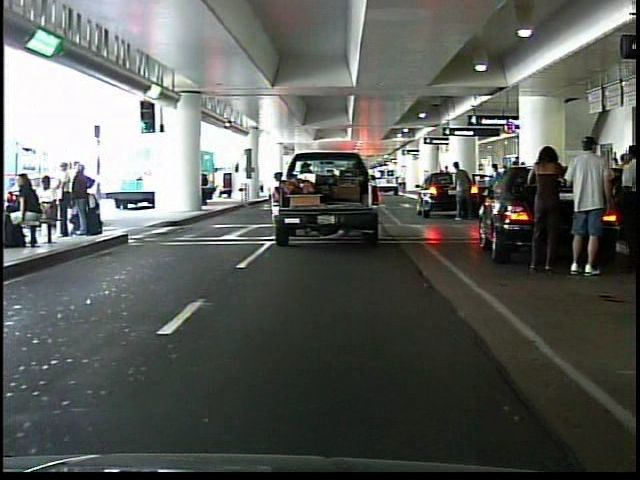person: (560, 131, 614, 279), (526, 136, 573, 281), (611, 144, 640, 218), (448, 154, 476, 227), (484, 159, 504, 217)
